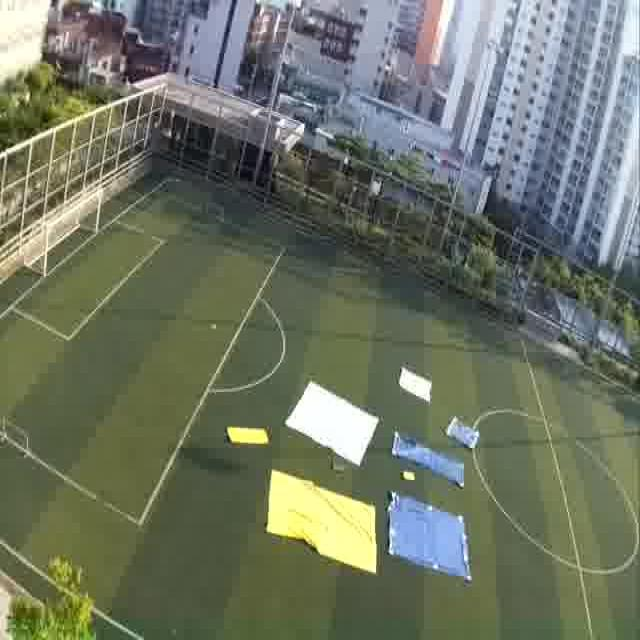danger: (386, 490, 481, 592), (387, 422, 437, 464), (440, 408, 484, 449)
safety: (286, 376, 384, 467), (394, 358, 436, 409)
warning: (264, 463, 380, 578), (223, 416, 275, 454)
